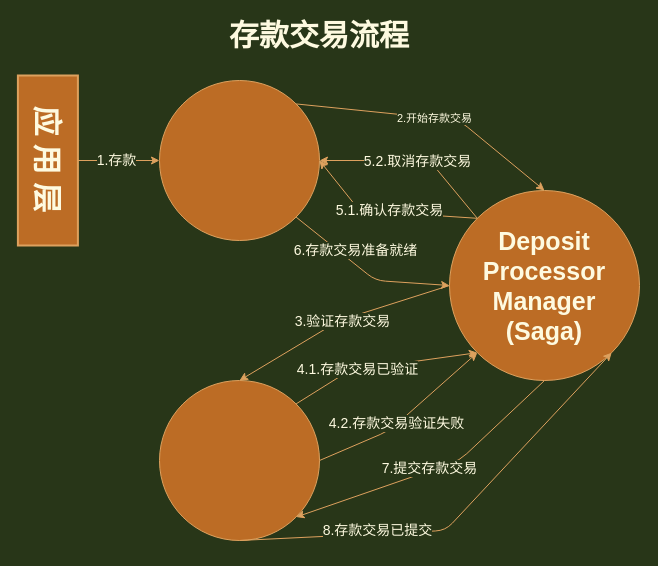
Image size: 658x566. Some labels were removed from this diagram. Each missing label, with the box of its shape:
Bank Account (Aggregate Root): (158, 380, 320, 540)
Deposit Transaction (Aggregate Root): (158, 80, 320, 240)
